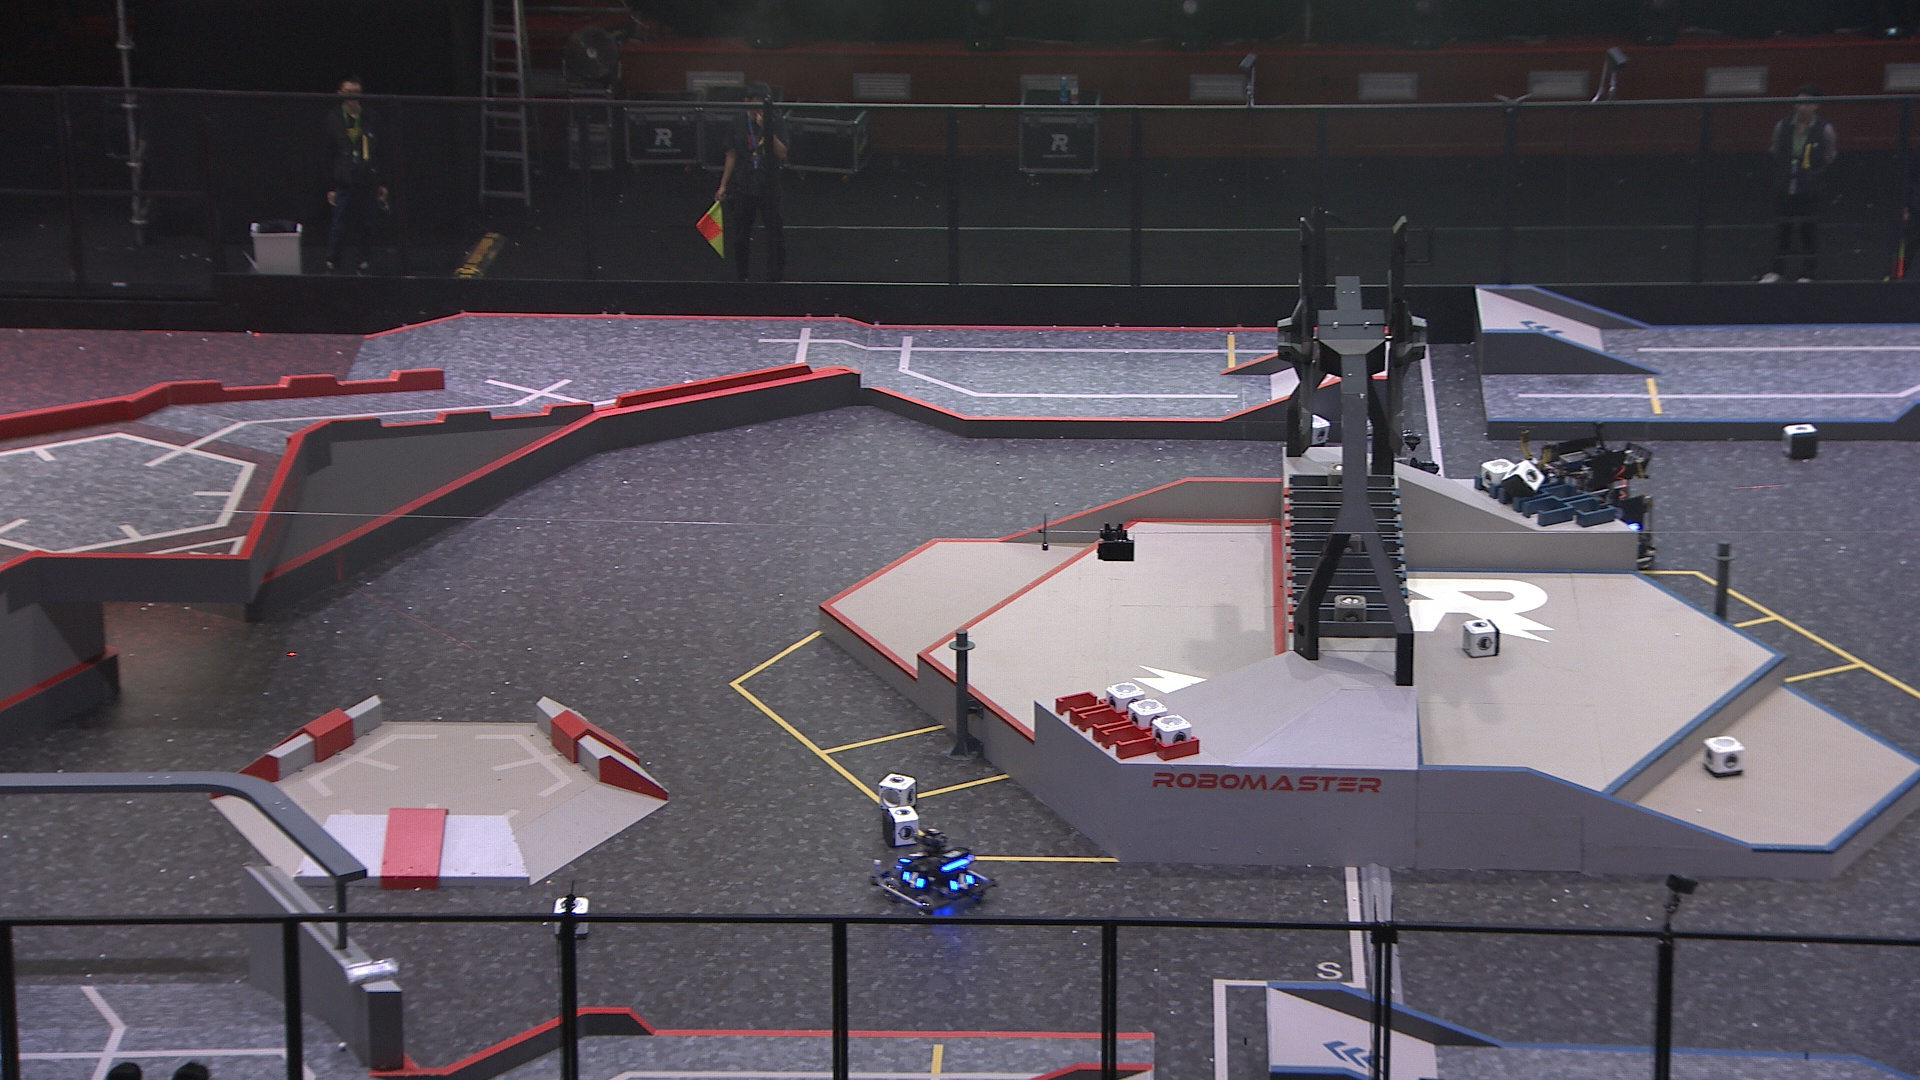armor: (945, 870, 975, 894), (898, 869, 928, 891), (897, 847, 926, 866)
car: (1527, 434, 1658, 568), (870, 825, 997, 920)
